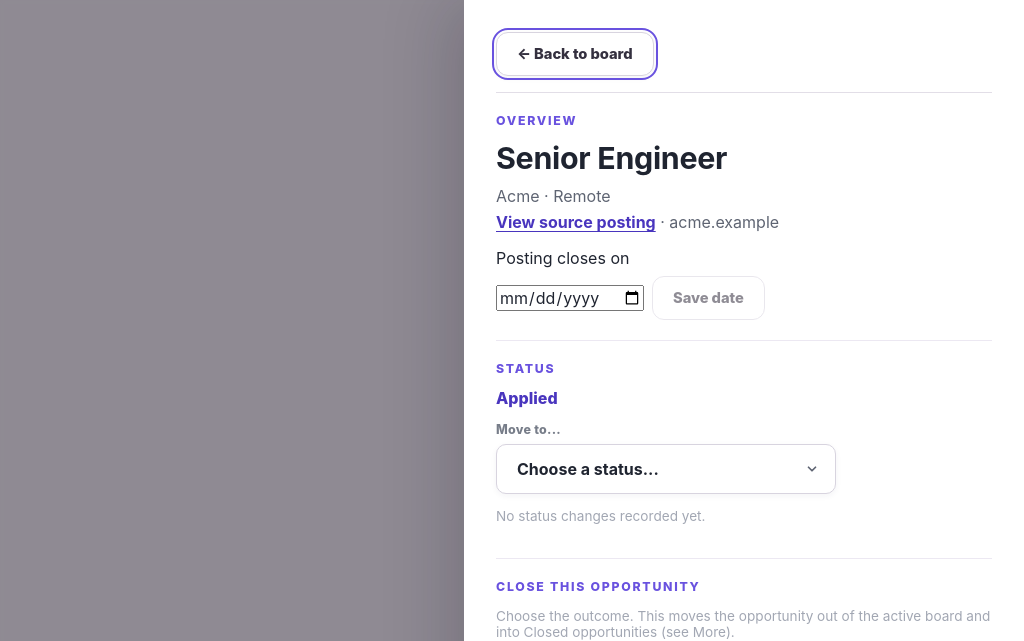
Test: OpportunityDetail › reports a failed date update without pretending it was saved
This screenshot has width=1024, height=641.
In the date field labelled "Posting closes on": (570, 298) [496,286,644,312], type "2026-10-05"
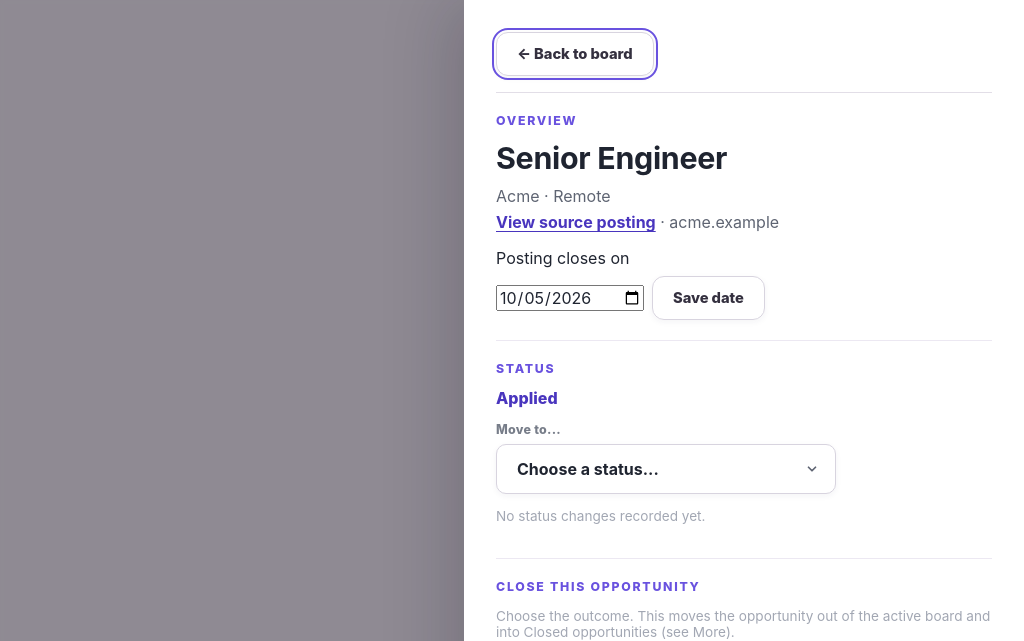
Click the button "Save date": (708, 298) [652,276,765,320]
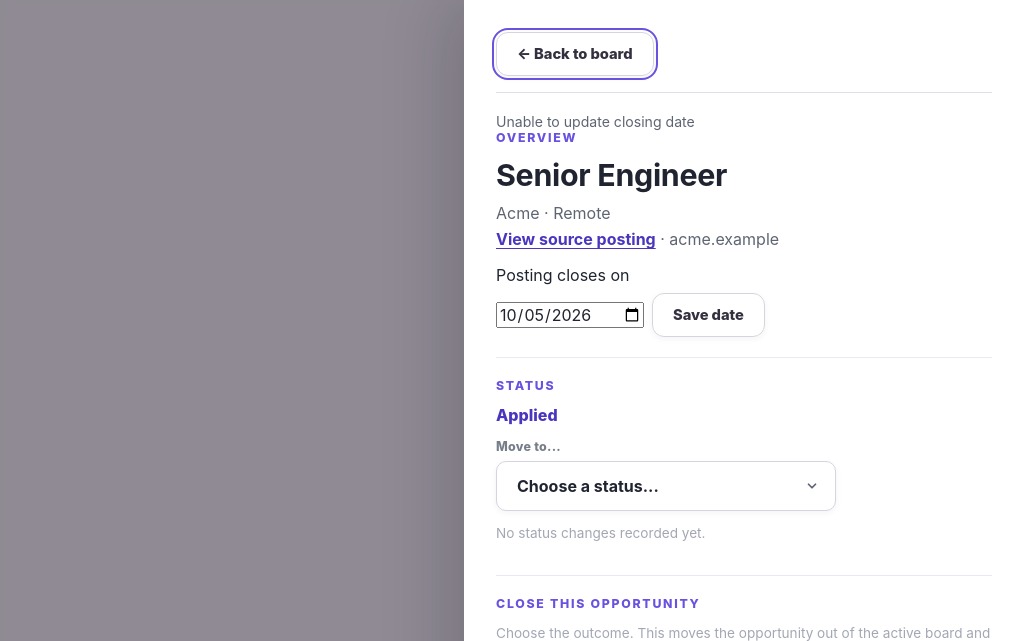
Now the text "Unable to update closing date" is shown, box [496,113,695,130]
